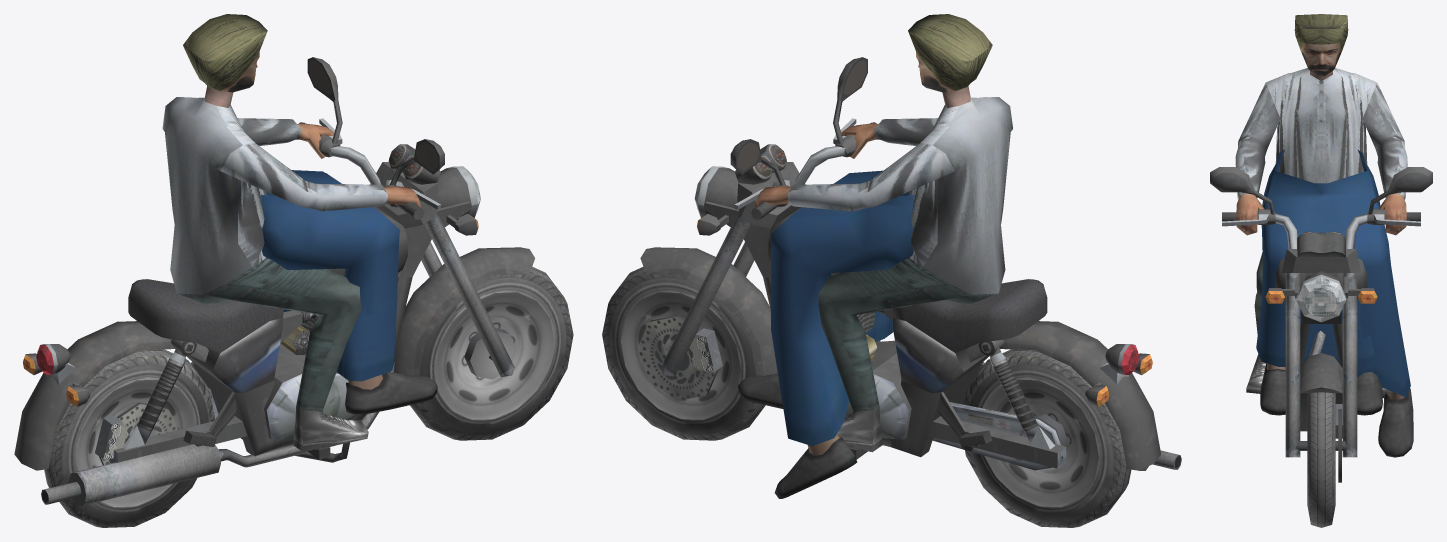
Rendered from sf_motorbike_03.glb.
3 views of the same model, side by side, from view 1: azimuth 30°, elevation 25°; view 2: azimuth 150°, elevation 25°; view 3: azimuth 270°, elevation 25° (orthographic). The views are drawn at different scales.
Parts seen in each view (by area): view 1: traffic_motorbike_03, traffic_motorbike_03_front_traffic_motorbike_01_component_2_, LegUp_1, traffic_motorbike_03_rear_traffic_motorbike_01_component_2_0, LegDown_1; view 2: traffic_motorbike_03, LegDown_1, traffic_motorbike_03_front_traffic_motorbike_01_component_2_, traffic_motorbike_03_rear_traffic_motorbike_01_component_2_0, LegUp_1; view 3: traffic_motorbike_03, LegDown_1, LegUp_1, traffic_motorbike_03_front_traffic_motorbike_01_component_2_, traffic_motorbike_03_light.
Part boxes in pixels (x1=…): traffic_motorbike_03: x1=14, y1=14, x2=535, y2=505; traffic_motorbike_03_front_traffic_motorbike_01_component_2_: x1=410, y1=266, x2=573, y2=440; LegUp_1: x1=261, y1=170, x2=437, y2=414; traffic_motorbike_03_rear_traffic_motorbike_01_component_2_0: x1=44, y1=349, x2=215, y2=527; LegDown_1: x1=278, y1=170, x2=426, y2=411; traffic_motorbike_03: x1=640, y1=14, x2=1181, y2=470; LegDown_1: x1=771, y1=170, x2=914, y2=498; traffic_motorbike_03_front_traffic_motorbike_01_component_2_: x1=602, y1=266, x2=765, y2=440; traffic_motorbike_03_rear_traffic_motorbike_01_component_2_0: x1=963, y1=349, x2=1131, y2=527; LegUp_1: x1=738, y1=172, x2=900, y2=408; traffic_motorbike_03: x1=1210, y1=14, x2=1432, y2=457; LegDown_1: x1=1262, y1=150, x2=1413, y2=457; LegUp_1: x1=1256, y1=150, x2=1382, y2=415; traffic_motorbike_03_front_traffic_motorbike_01_component_2_: x1=1307, y1=392, x2=1341, y2=527; traffic_motorbike_03_light: x1=1296, y1=277, x2=1346, y2=322.
Bounding box in the file's own units: 2.01 × 1.66 × 0.8367.
Materials: 4 (4 with a texture image).
